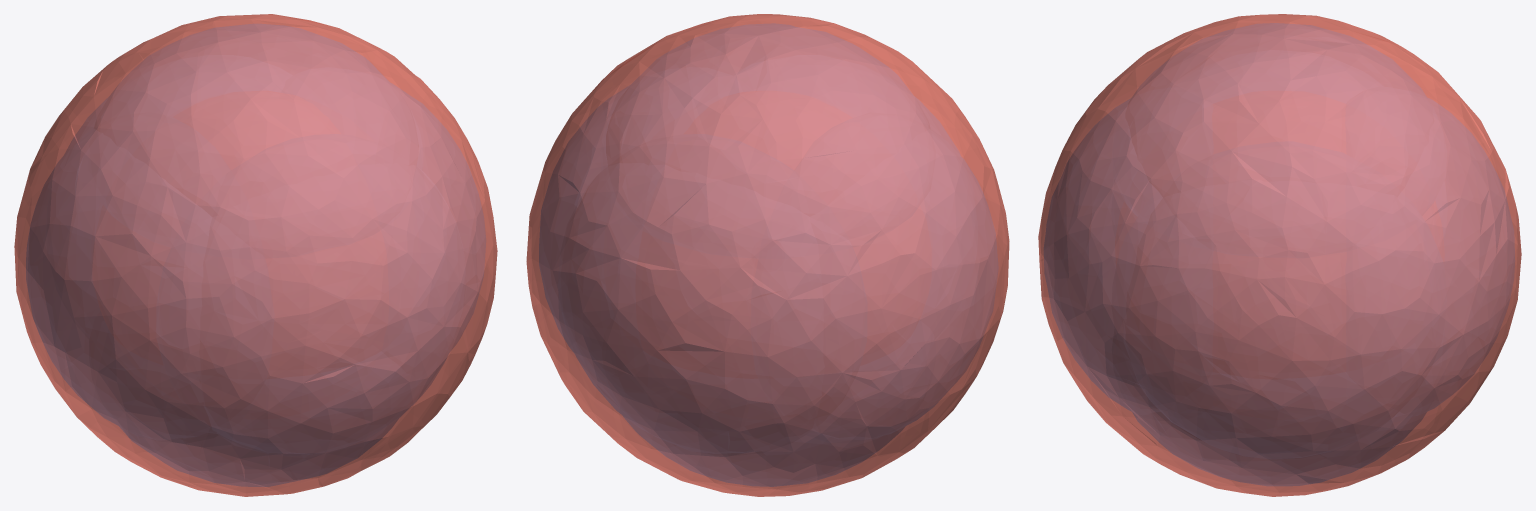
Rendered from orbital.glb.
3 views of the same model, side by side, from view 1: azimuth 30°, elevation 25°; view 2: azimuth 150°, elevation 25°; view 3: azimuth 270°, elevation 25° (orthographic).
Visible parts, largest first — view 1: Ar_n3_s_ml0_node, Ar_n3_p_ml0_node, Ar_n3_p_ml1_node, Ar_n3_p_ml-1_node; view 2: Ar_n3_s_ml0_node, Ar_n3_p_ml0_node, Ar_n3_p_ml1_node, Ar_n3_p_ml-1_node; view 3: Ar_n3_s_ml0_node, Ar_n3_p_ml1_node, Ar_n3_p_ml-1_node, Ar_n3_p_ml0_node.
Boxes of the visible parts, x1,y1,x2,y2 form: Ar_n3_s_ml0_node: (14, 14, 497, 496); Ar_n3_p_ml0_node: (66, 97, 465, 453); Ar_n3_p_ml1_node: (26, 84, 485, 440); Ar_n3_p_ml-1_node: (94, 24, 418, 486); Ar_n3_s_ml0_node: (526, 14, 1009, 496); Ar_n3_p_ml0_node: (558, 98, 959, 453); Ar_n3_p_ml1_node: (539, 85, 998, 439); Ar_n3_p_ml-1_node: (606, 23, 929, 486); Ar_n3_s_ml0_node: (1038, 14, 1521, 496); Ar_n3_p_ml1_node: (1126, 180, 1432, 458); Ar_n3_p_ml-1_node: (1125, 23, 1433, 485); Ar_n3_p_ml0_node: (1044, 98, 1514, 415).
Size of the model in its own units: 1.57 by 1.57 by 1.57.
